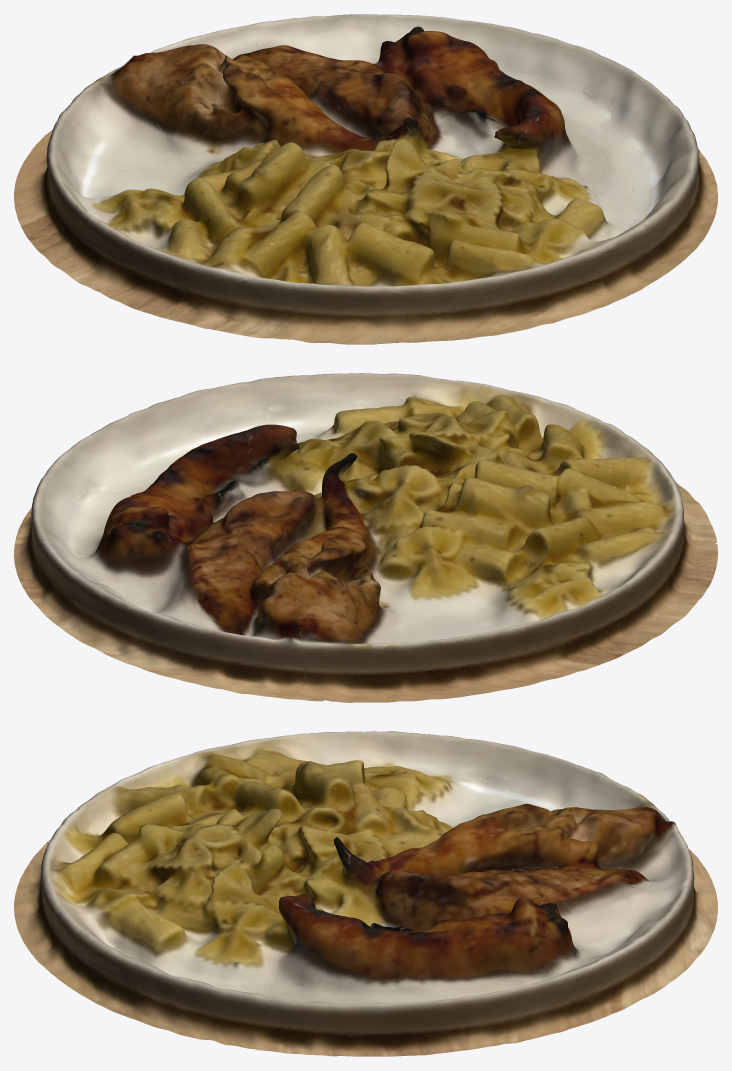
The model's file is pasta.glb.
3 views of the same model, one above another, from view 1: azimuth 30°, elevation 25°; view 2: azimuth 150°, elevation 25°; view 3: azimuth 270°, elevation 25° (orthographic).
Parts seen in each view (by area): view 1: mesh; view 2: mesh; view 3: mesh.
Part boxes in pixels (left/top/right/bottom): mesh: left=14, top=14, right=717, bottom=344; mesh: left=14, top=373, right=717, bottom=702; mesh: left=14, top=731, right=717, bottom=1056.
Size of the model in its own units: 0.3069 by 0.0447 by 0.3069.
Materials: 1 (1 with a texture image).
